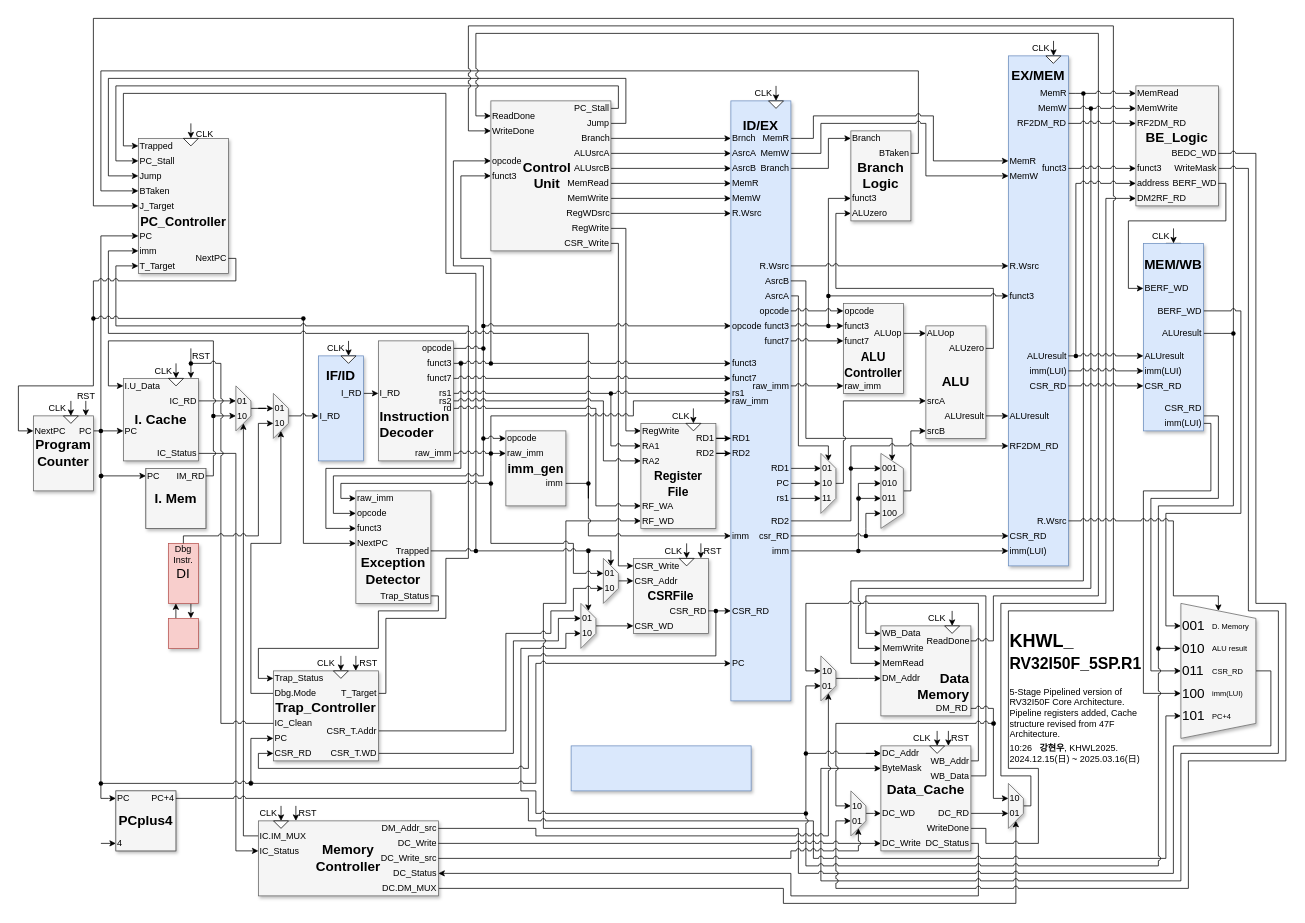
Some shapes in this 1305 by 923 pixel diagram are drawn without their labels. Each missing label, with the centre of its shape:
Dbgr: the point at 184,634
Pipeline Controller: the point at 661,769
